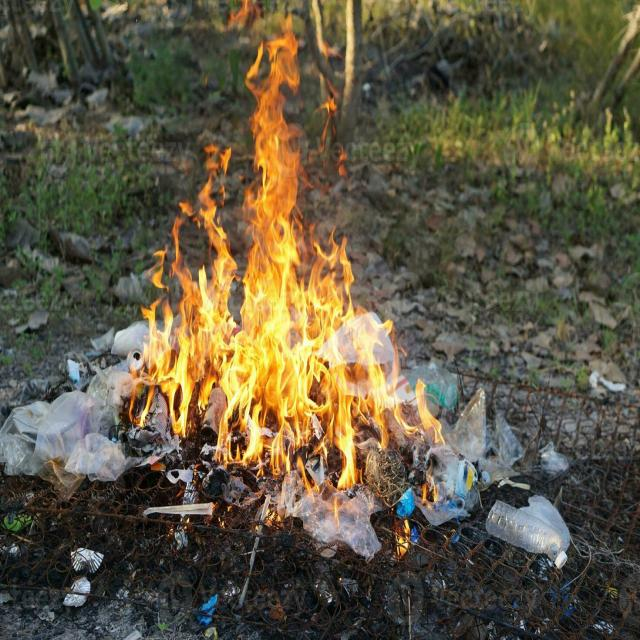fire: (238, 0, 354, 500), (129, 144, 238, 468), (355, 305, 445, 560)
